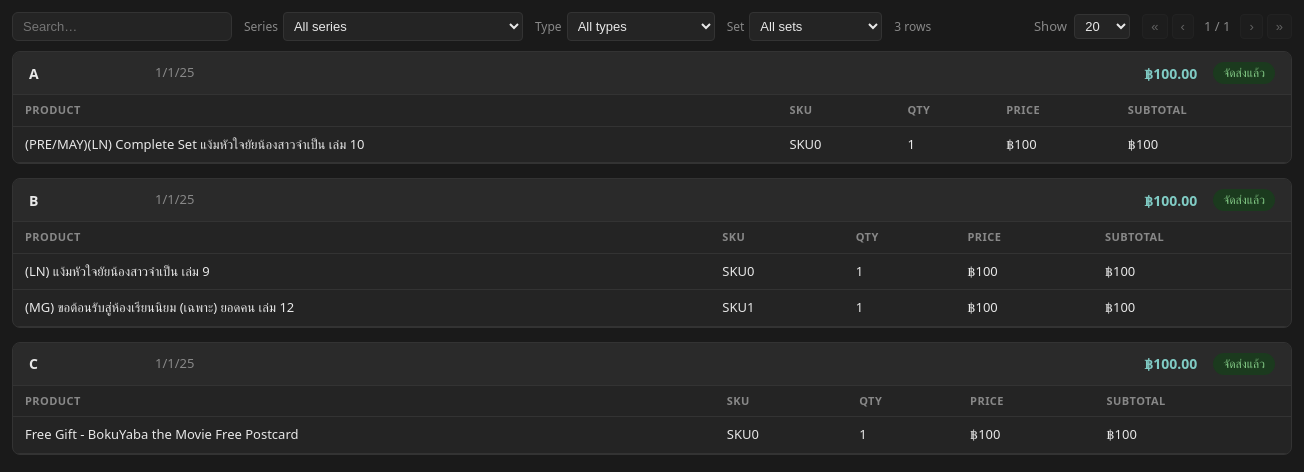
Test: order-details facet filters › shows a clear button only while a filter is set, and it resets every select
Expected: the text "Clear filters" is not shown
Step 1. Select "Light Novel (2)" in the dropdown labelled "Type" → (641, 26), box x1=567 y1=12 x2=715 y2=41
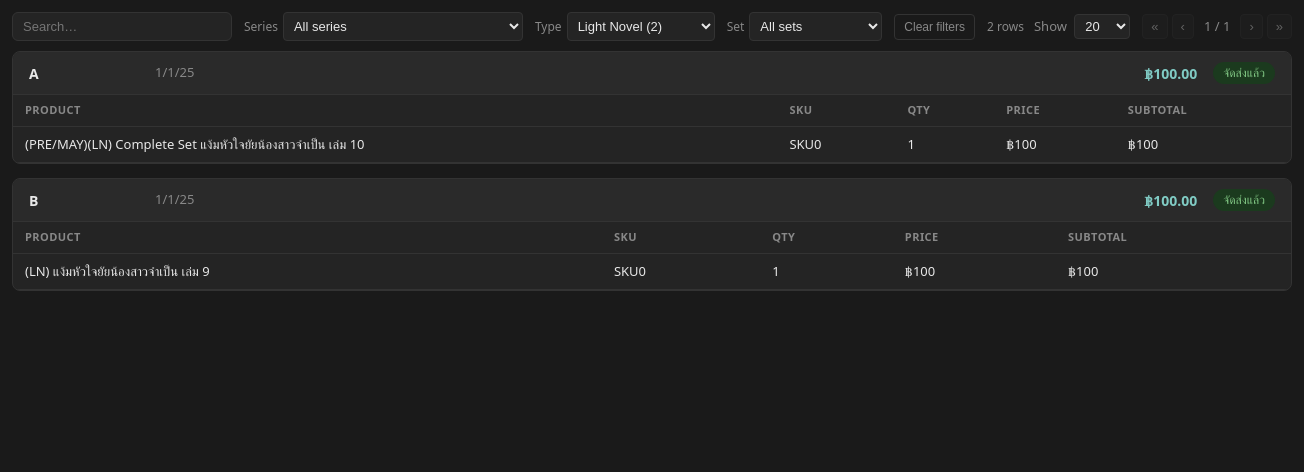
Step 2. Select "Complete Set (1)" in the dropdown labelled "Set" → (816, 26), box x1=749 y1=12 x2=882 y2=41
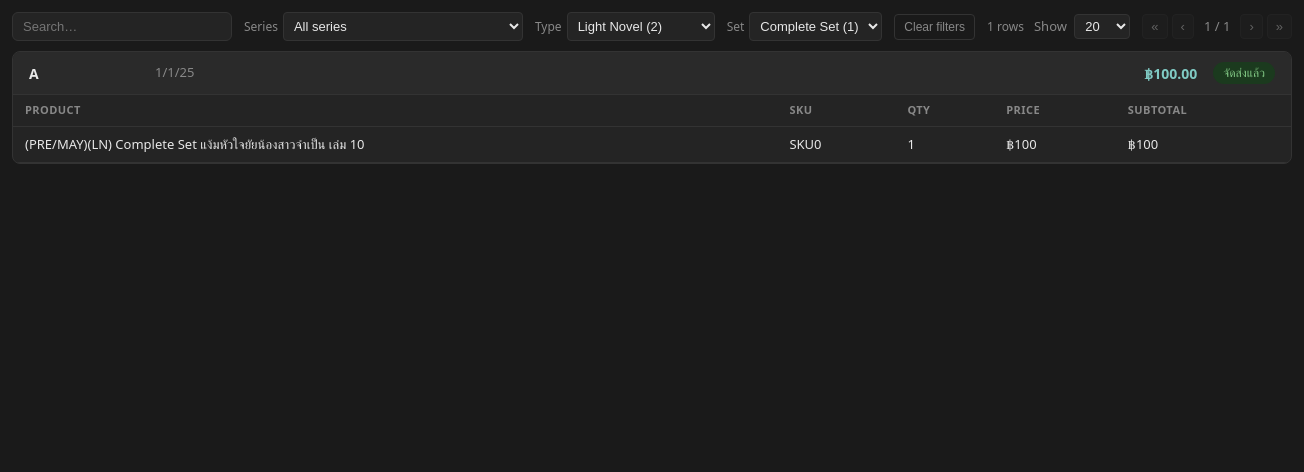
Step 3. Click the button "Clear filters" → (935, 26), box x1=894 y1=14 x2=975 y2=40
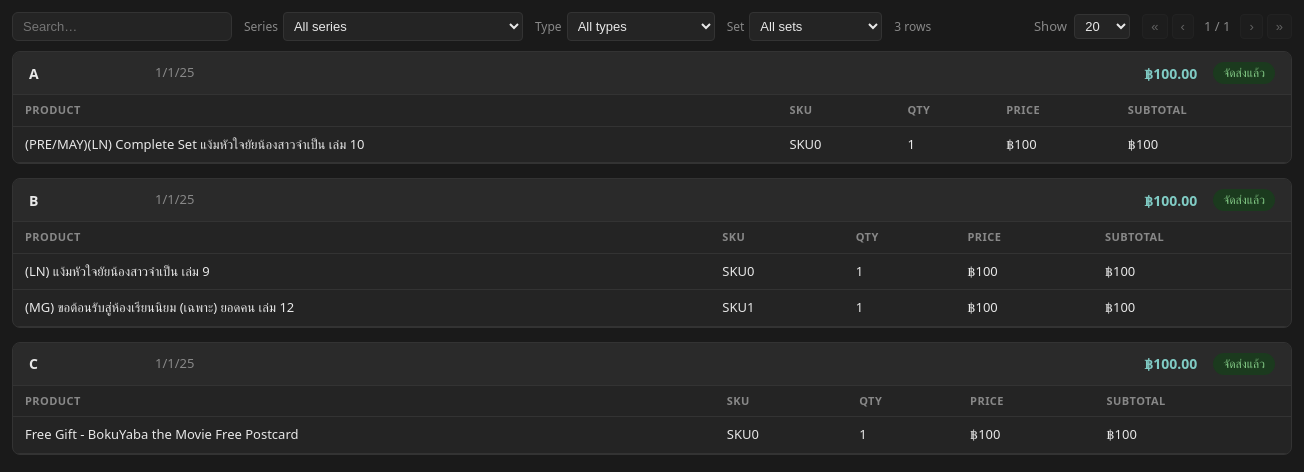
Expected: the button "Clear filters" is gone
